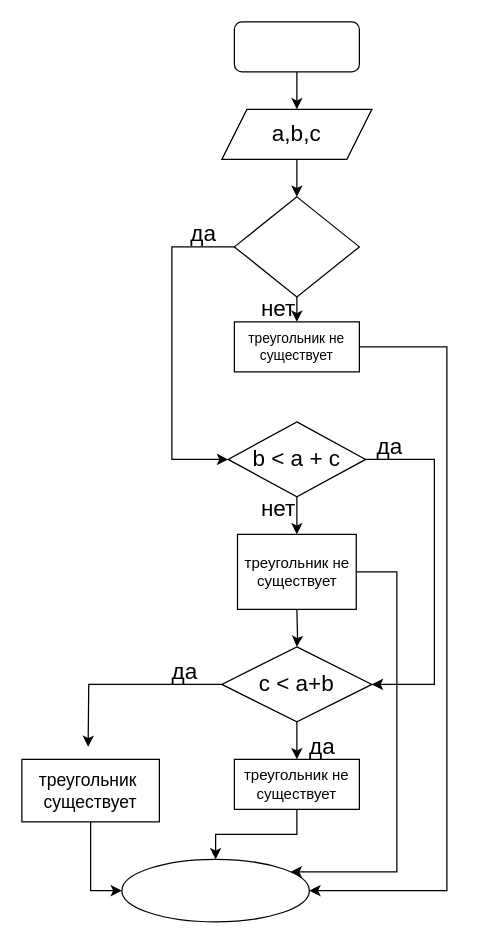
Image size: 479x944. Some labels were removed from this diagram. Each missing label, with the centre of its shape:
a < b+c: [296,246]
Finish: [215,890]
Start: [296,46]
